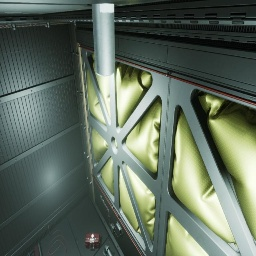0: (92, 3, 115, 77)
FirstAidBox ,: (85, 233, 100, 249)
